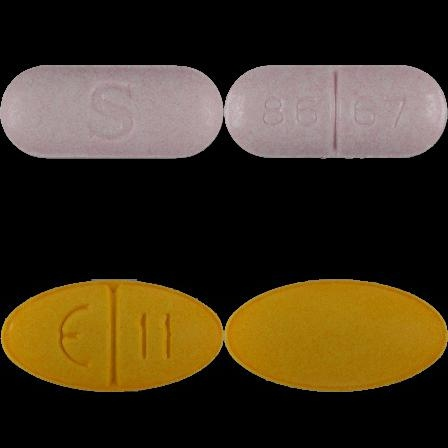16590-207: (0, 0, 224, 224)
